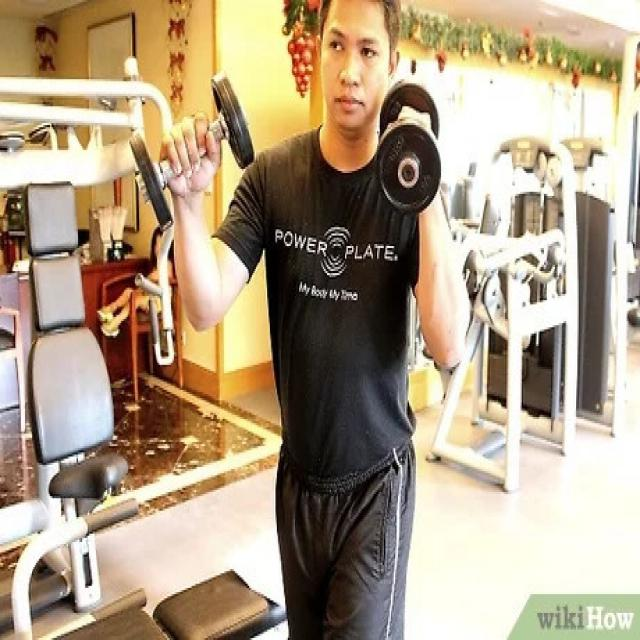Gym Weights: (118, 65, 263, 248), (362, 71, 446, 215)
